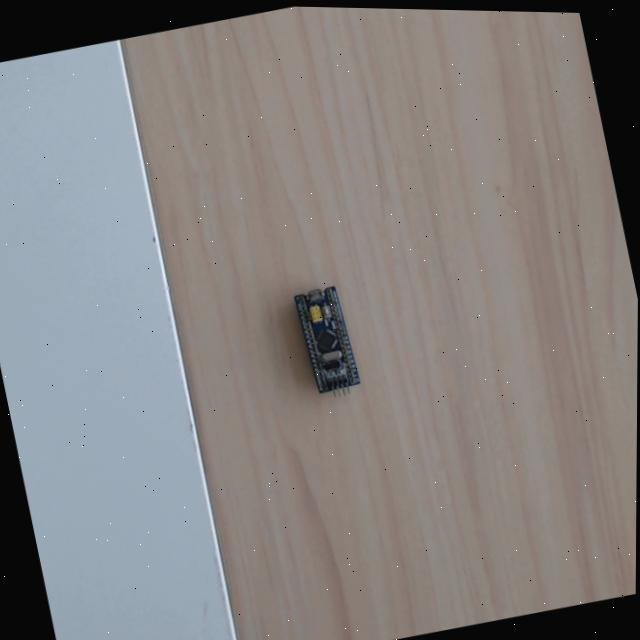STM32-Bluepill: (292, 282, 363, 395)
